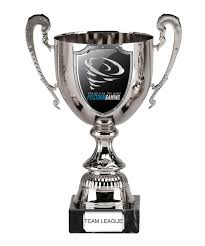trophy: (25, 12, 184, 239)
